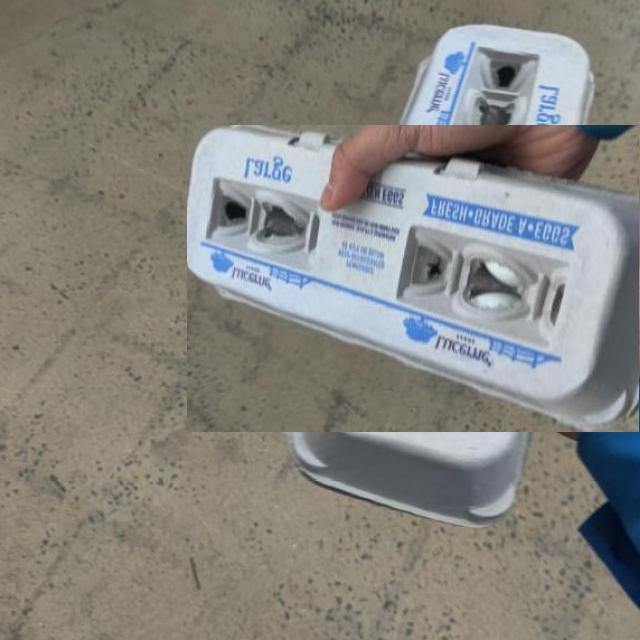Eggs: (187, 125, 640, 432)
